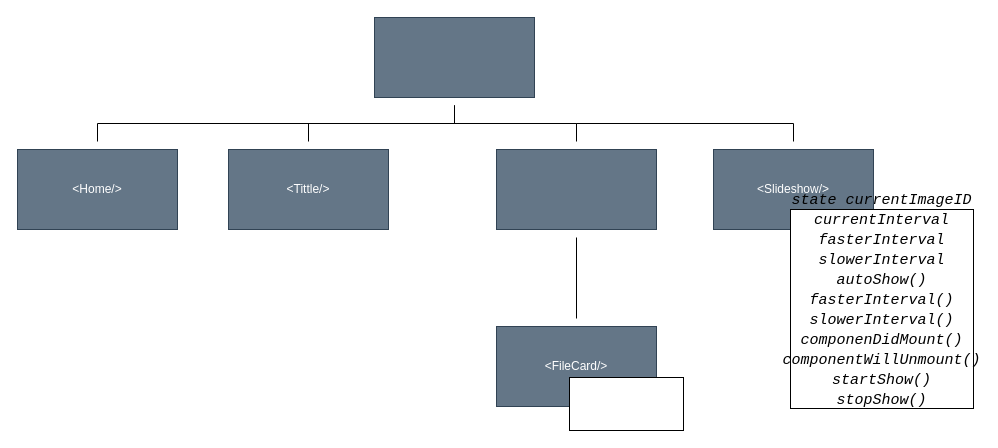
Image size: 998x448. Some labels were removed from this diagram. Here are the shapes that lost their labels. From the top down, the centre of each, then its label:
At point (454, 57): "<App/>".
At point (576, 189): "<Gallery/>".
At point (626, 403): "state.selected handleClick()".
